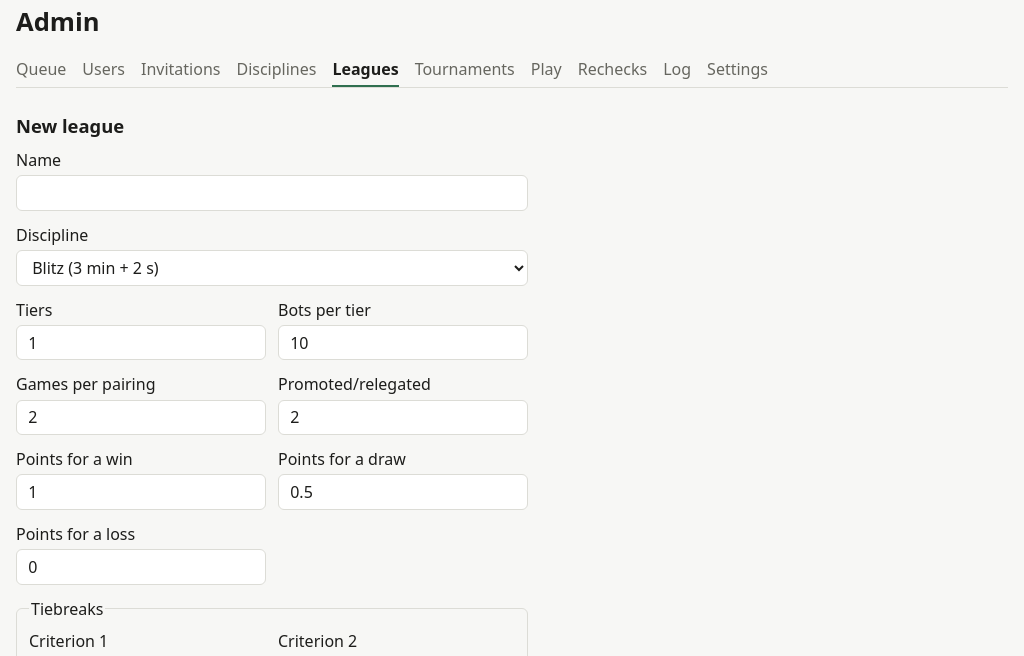
Test: admin leagues › names the rule of a refused setting
Type "Kreisliga" into the field labelled "Name". click: (272, 193)
box: [16,175,528,211]
(page scrolled)
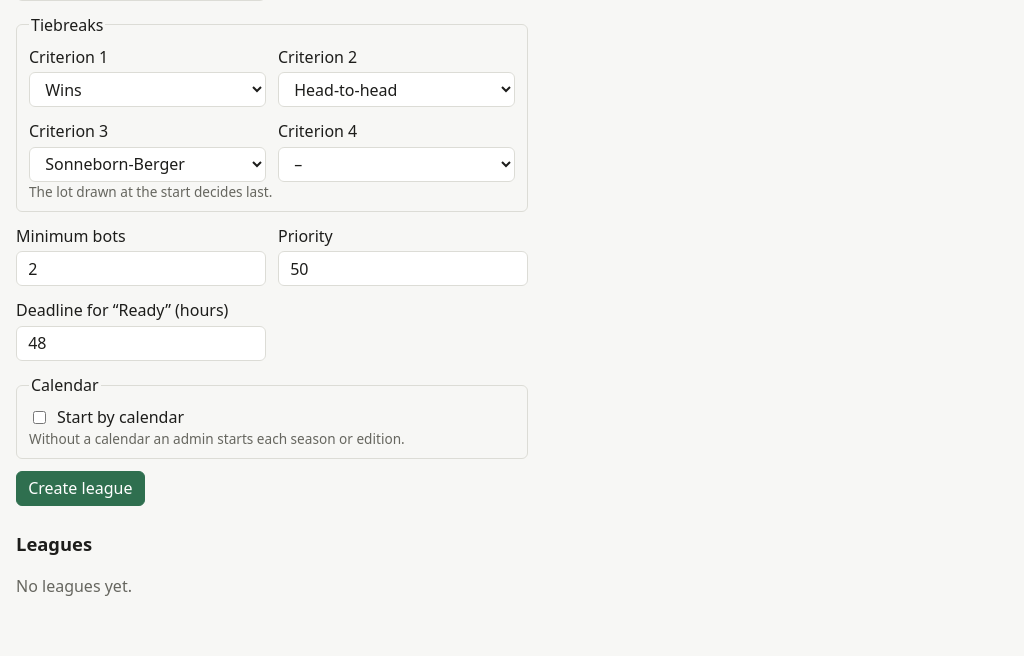
Click the button "Create league". click: (80, 488)
box: [16,471,145,506]
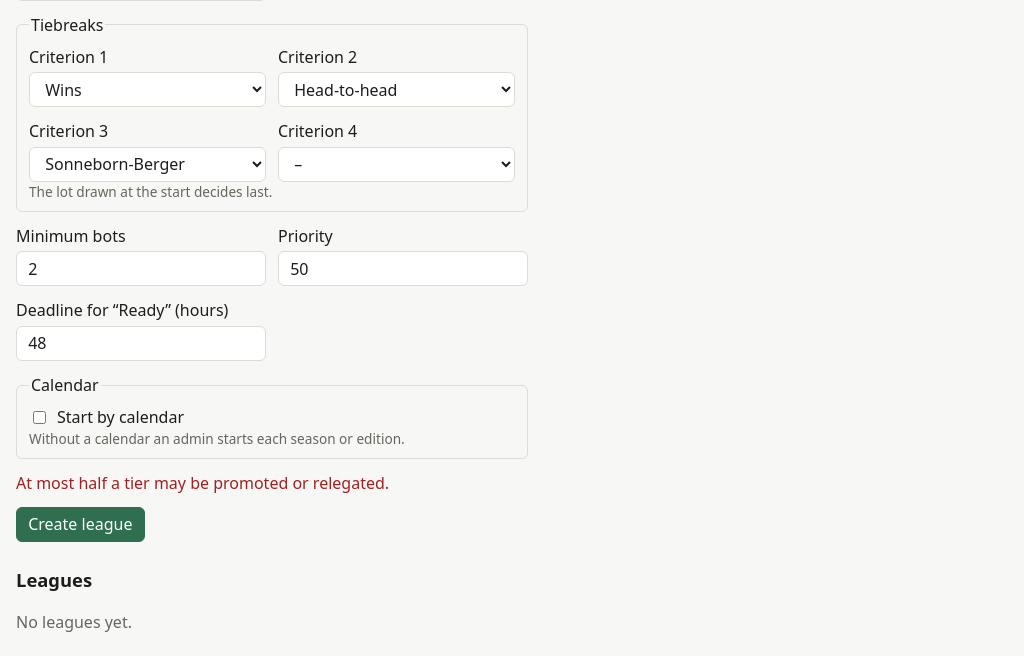
Expected: the message reads "At most half a tier may be promoted or relegated.", [16,472,389,494]
